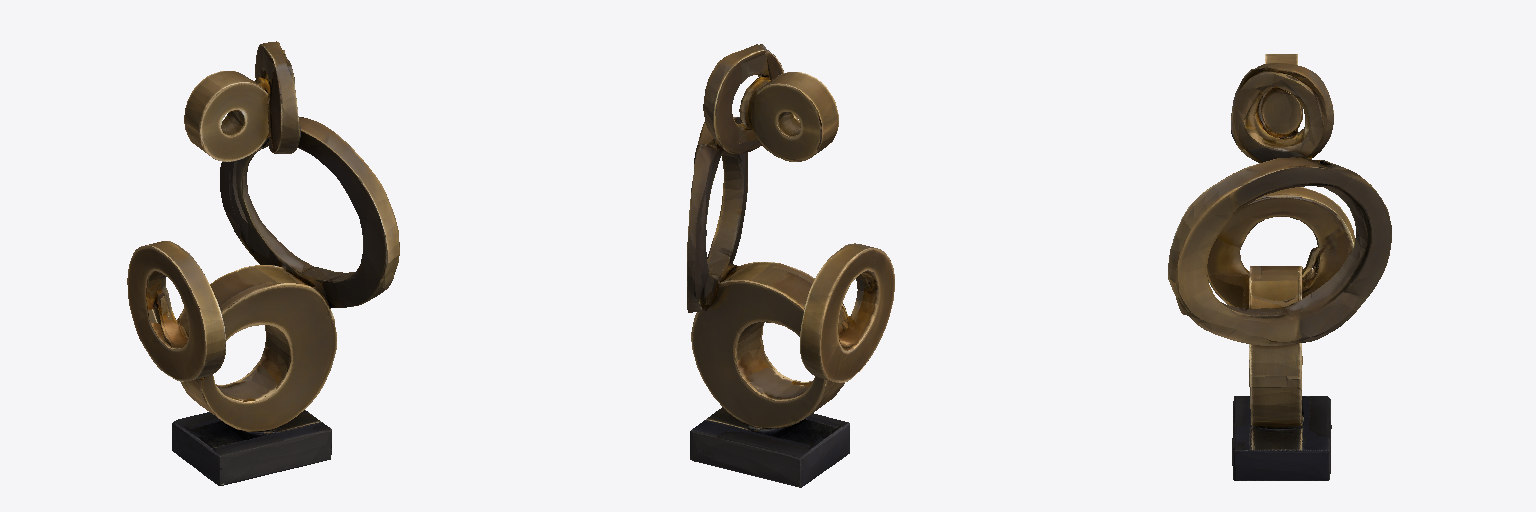
3 views of the same model, side by side, from view 1: azimuth 30°, elevation 25°; view 2: azimuth 150°, elevation 25°; view 3: azimuth 270°, elevation 25° (orthographic).
Parts seen in each view (by area): view 1: estatuanueva3; view 2: estatuanueva3; view 3: estatuanueva3.
Boxes of the visible parts, <box> form: estatuanueva3: <box>127,41,399,485</box>; estatuanueva3: <box>687,44,894,487</box>; estatuanueva3: <box>1168,54,1391,480</box>.
Bounding box in the file's own units: 5.16 × 10.67 × 5.42.
Materials: 1 (1 with a texture image).